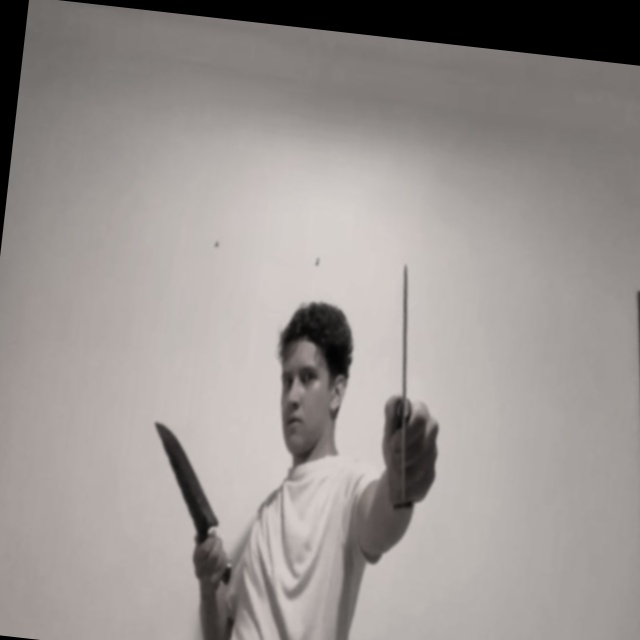Sharp-Object: (376, 262, 433, 504), (143, 419, 231, 531)
